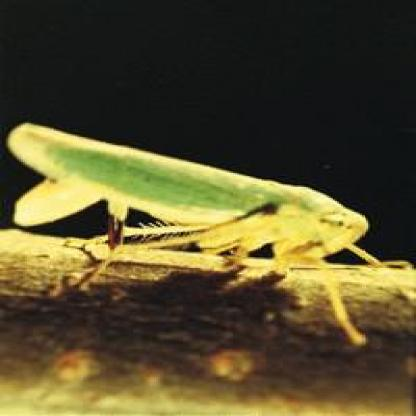Green-Leafhopper: (9, 121, 401, 344)
